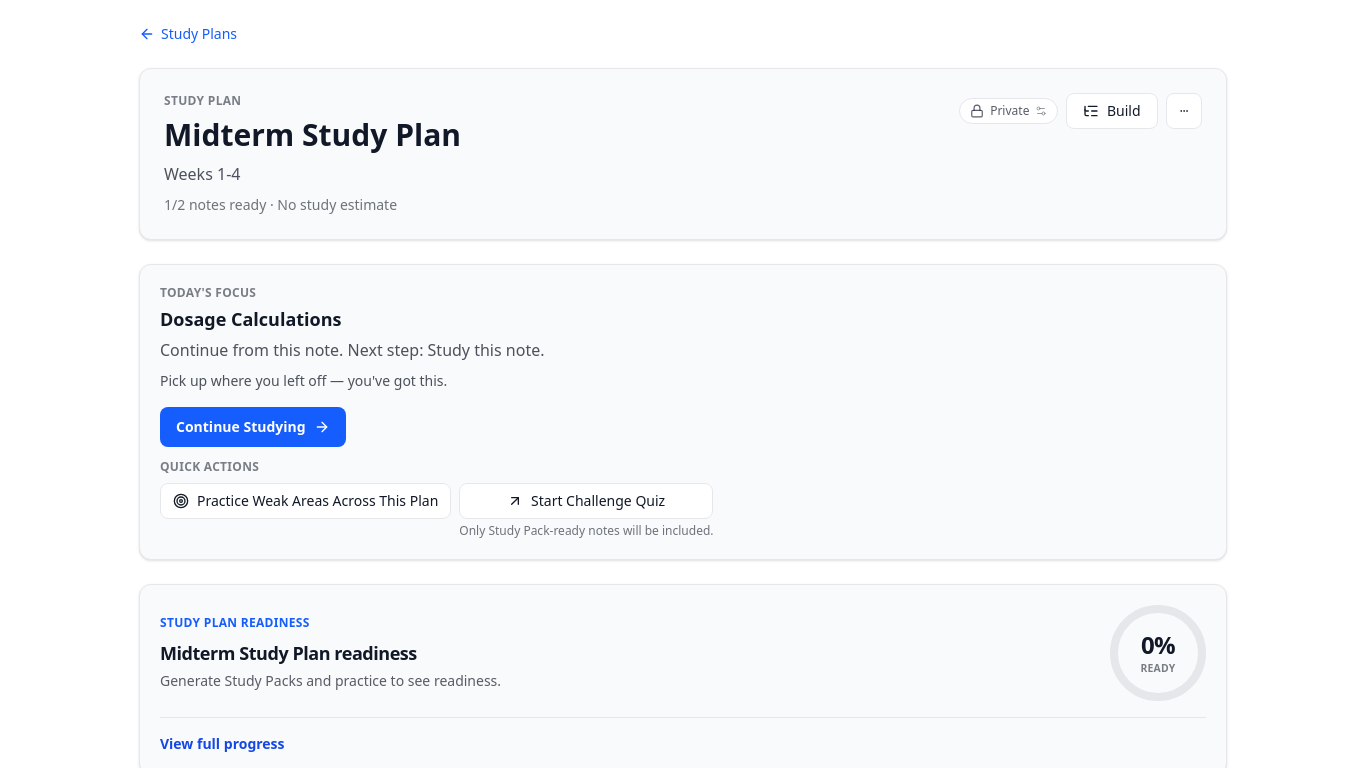
CollectionDetailPageClient › blocks publishing while an admin's note visibility is still unknown
Expected: the heading "Midterm Study Plan" is shown, [164, 117, 461, 153]
Click the button with aria-label "Publish settings" at [1009, 111], box [959, 98, 1058, 124]
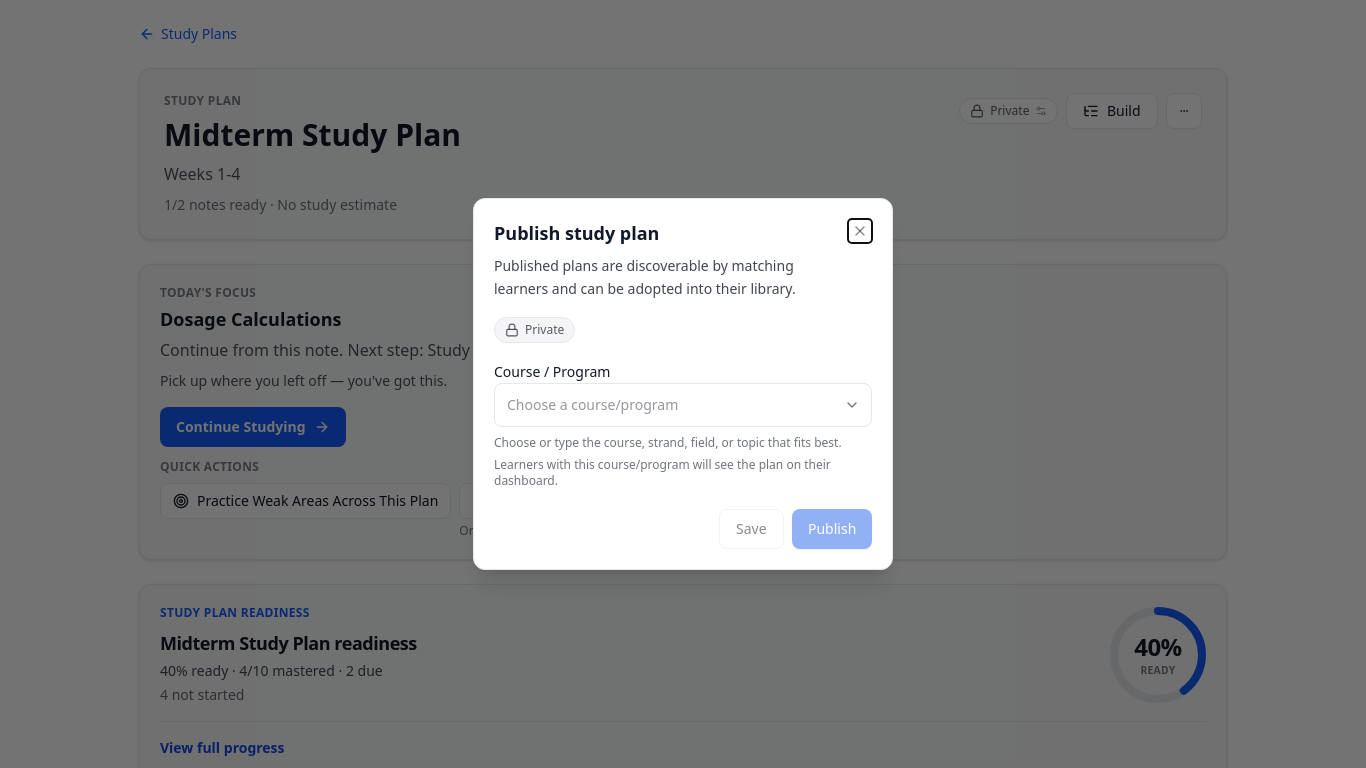
Expected: the button "Publish" is disabled, [792, 509, 872, 549]
